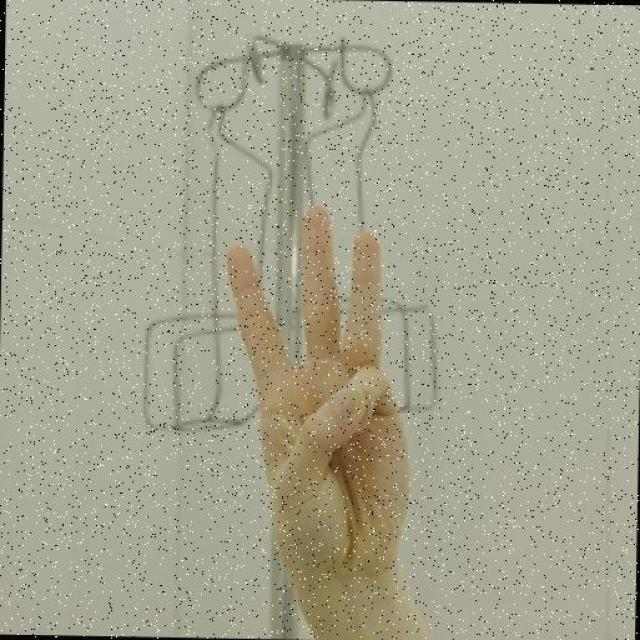W: (215, 197, 419, 588)
